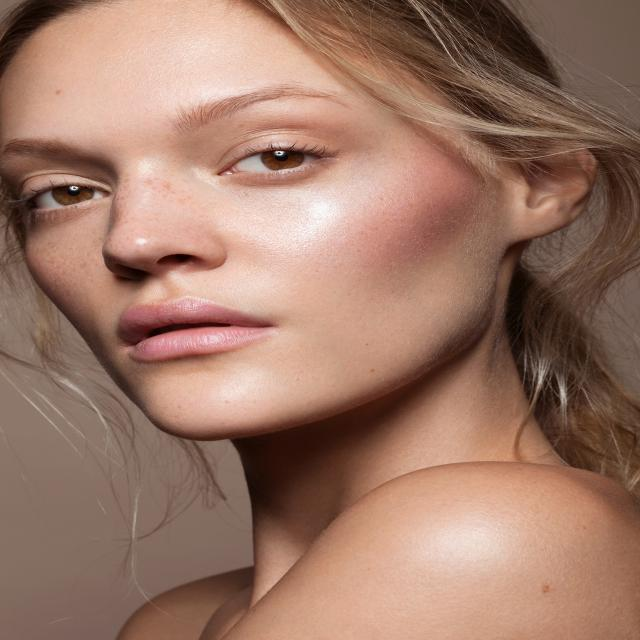earlobe: (507, 201, 557, 243)
eye: (215, 144, 337, 181), (17, 182, 116, 212)
nose: (102, 253, 220, 295)
wholeear: (507, 138, 596, 242)
